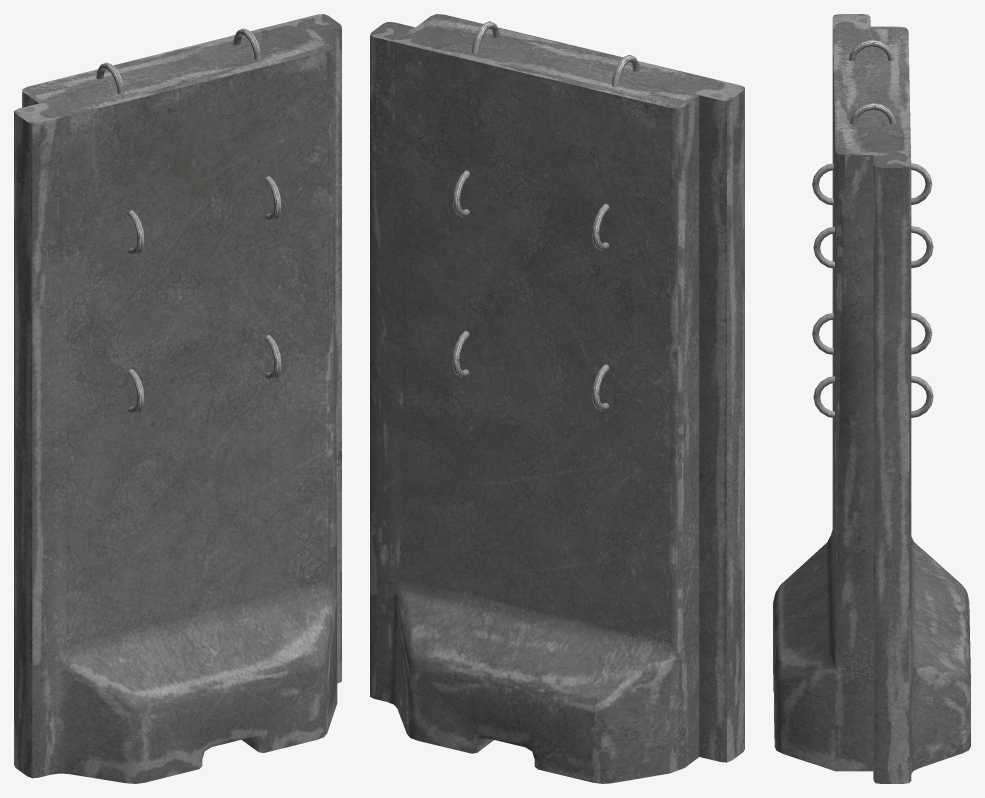
Rendered from Barrier_Large.obj.
3 renders of one model, left to right at view 1: azimuth 30°, elevation 25°; view 2: azimuth 150°, elevation 25°; view 3: azimuth 270°, elevation 25°, orthographic. The views are drawn at different scales.
Visible parts, largest first — view 1: Box001; view 2: Box001; view 3: Box001.
Part boxes in pixels (x1,y1,x2,y2): Box001: (14, 14, 341, 783); Box001: (370, 14, 744, 783); Box001: (773, 14, 970, 783).
Bounding box in the file's own units: 48.22 × 92.92 × 26.22.
